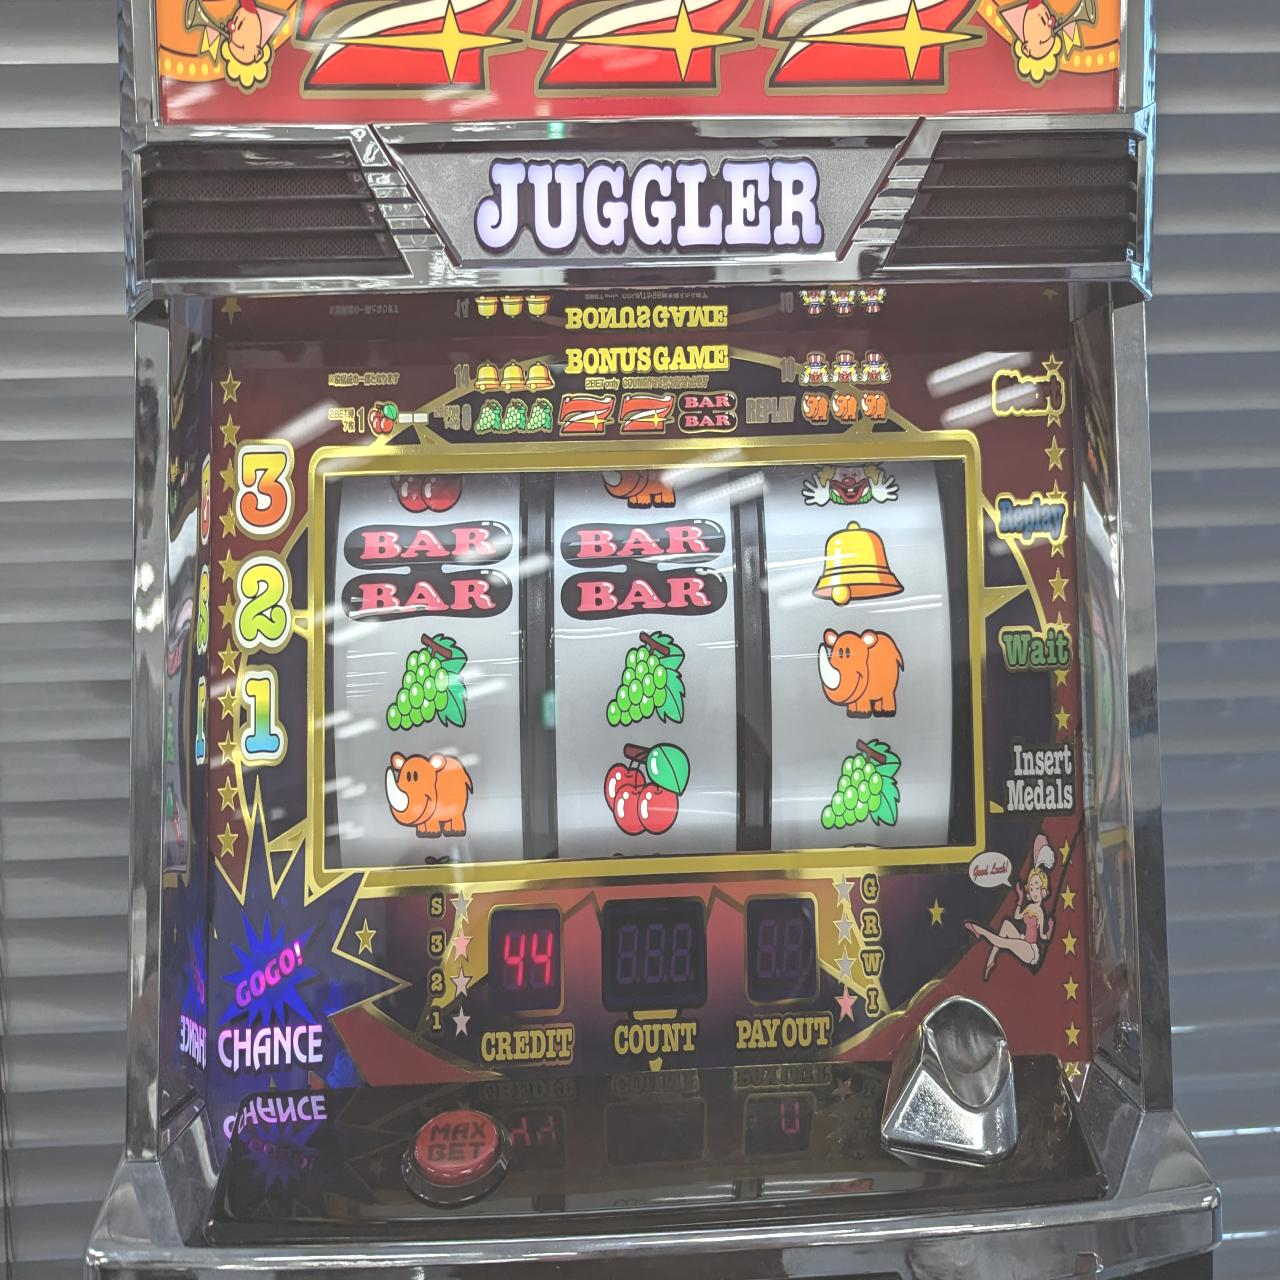8: (375, 743, 478, 845), (813, 620, 908, 726)
Display: (312, 430, 981, 863)
bar: (559, 503, 731, 626), (340, 511, 515, 629)
bell: (810, 511, 908, 615)
cherry: (598, 731, 696, 851)
grape: (346, 628, 478, 737), (586, 629, 696, 731), (817, 726, 906, 843)
